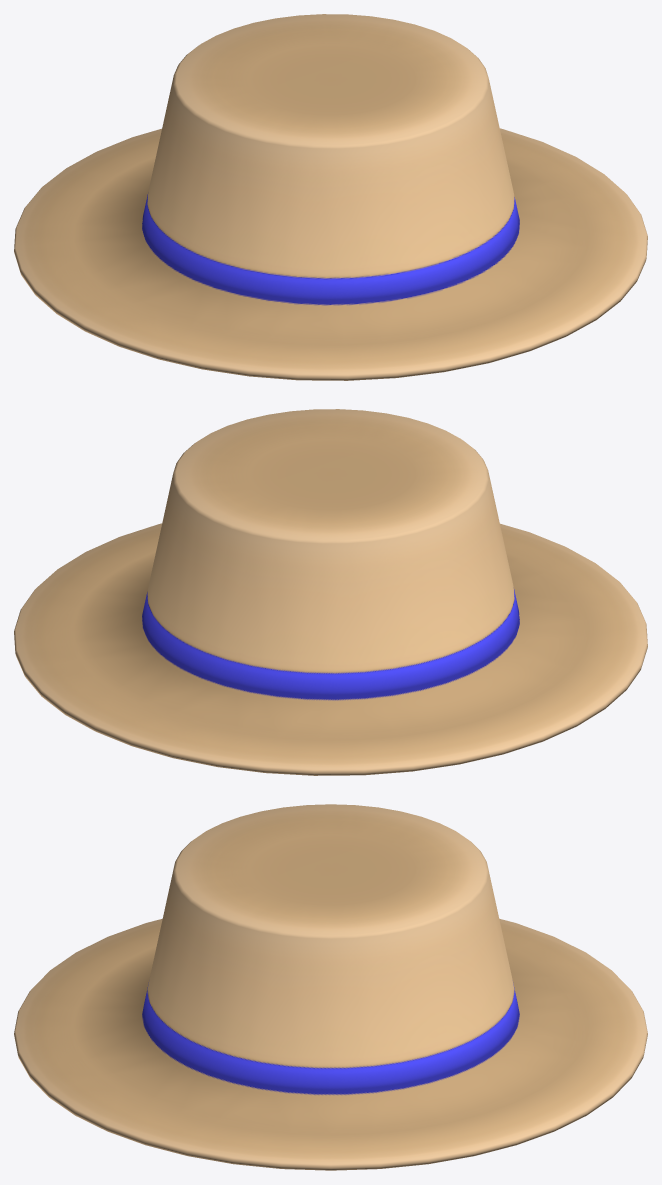
Rendered from Sunhead Blue.fbx.
The picture shows the model from 3 angles, top to bottom: view 1: azimuth 30°, elevation 25°; view 2: azimuth 150°, elevation 25°; view 3: azimuth 270°, elevation 25°; orthographic projection.
Visible parts, largest first — view 1: Sunhead Blue; view 2: Sunhead Blue; view 3: Sunhead Blue.
Part boxes in pixels (x1=…): Sunhead Blue: x1=14, y1=14, x2=647, y2=380; Sunhead Blue: x1=14, y1=409, x2=647, y2=775; Sunhead Blue: x1=14, y1=804, x2=647, y2=1170.
Size of the model in its own units: 60.23 by 17.58 by 60.26.
